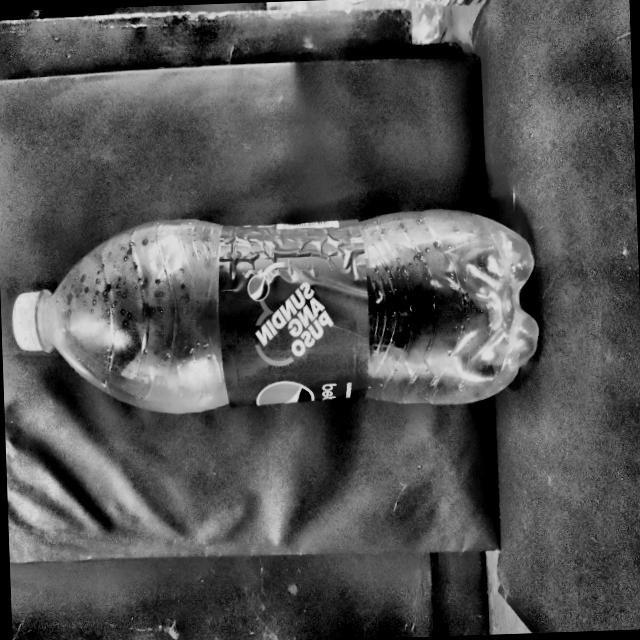Plastic-Bottle: (4, 200, 544, 427)
